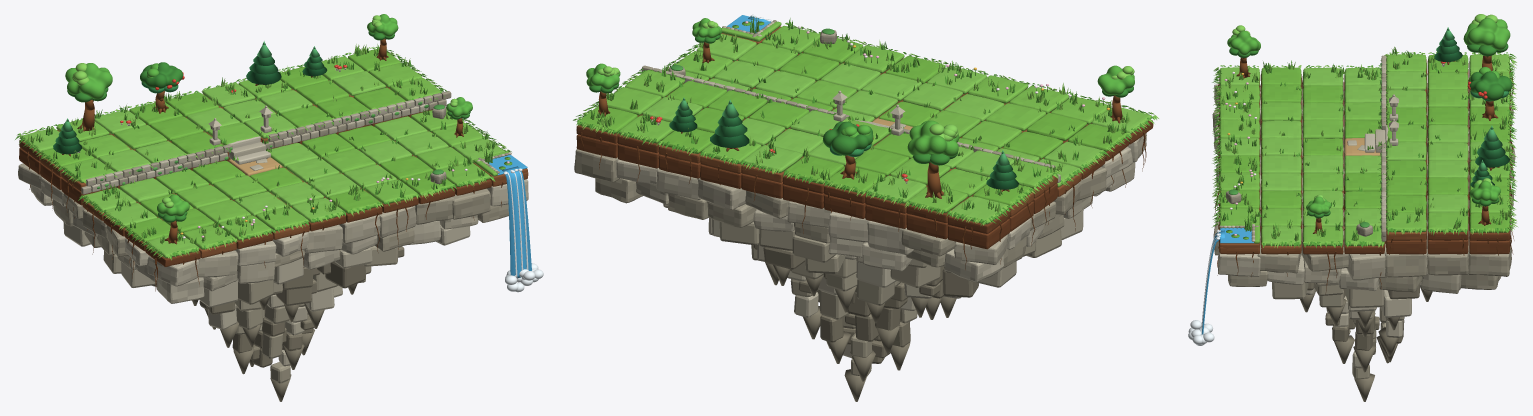
File: ile-jeu.glb
The picture shows the model from 3 angles, left to right: view 1: azimuth 30°, elevation 25°; view 2: azimuth 150°, elevation 25°; view 3: azimuth 270°, elevation 25°; orthographic projection. The views are drawn at different scales.
Parts seen in each view (by area): view 1: eau.001, feuillage, pierre.323, pierre.347, pierre.325, pierre.324, pierre.334, pierre.342, case_herbe.042, case_herbe.012, case_herbe.018, pierre.336 (+83 smaller); view 2: feuillage, pierre.023, case_herbe.050, case_herbe.053, feuillage.001, pierre.004, pierre.016, case_herbe.051, pierre.001, case_herbe.047, case_herbe.046, pierre.006 (+90 smaller); view 3: feuillage, pierre.136, pierre.208, pierre.023, pierre.351, pierre.066, feuillage.001, case_herbe.042, case_herbe.051, pierre.320, pierre.276, case_herbe.021 (+90 smaller).
Part boxes in pixels (<box>): eau.001: <box>502,166,531,277</box>; feuillage: <box>65,63,112,99</box>; pierre.323: <box>147,256,198,286</box>; pierre.347: <box>452,188,490,219</box>; pierre.325: <box>198,250,238,277</box>; pierre.324: <box>156,277,204,303</box>; pierre.334: <box>303,224,342,253</box>; pierre.342: <box>379,205,416,237</box>; case_herbe.042: <box>213,175,266,200</box>; case_herbe.012: <box>114,125,167,149</box>; case_herbe.018: <box>332,71,385,95</box>; pierre.336: <box>339,215,380,243</box>; feuillage: <box>907,120,959,156</box>; pierre.023: <box>574,149,619,182</box>; case_herbe.050: <box>1027,112,1086,140</box>; case_herbe.053: <box>903,83,962,111</box>; feuillage.001: <box>823,121,873,155</box>; pierre.004: <box>867,220,913,254</box>; pierre.016: <box>697,178,745,209</box>; case_herbe.051: <box>985,103,1045,131</box>; pierre.001: <box>944,249,1003,282</box>; case_herbe.047: <box>714,60,774,88</box>; case_herbe.046: <box>755,70,815,98</box>; pierre.006: <box>828,211,868,242</box>; feuillage: <box>1463,18,1510,50</box>; pierre.136: <box>1385,248,1426,277</box>; pierre.208: <box>1346,244,1386,280</box>; pierre.023: <box>1468,241,1511,276</box>; pierre.351: <box>1218,249,1260,276</box>; pierre.066: <box>1427,239,1469,275</box>; feuillage.001: <box>1469,71,1512,100</box>; case_herbe.042: <box>1303,119,1343,138</box>; case_herbe.051: <box>1261,102,1301,121</box>; pierre.320: <box>1257,239,1300,273</box>; pierre.276: <box>1301,240,1348,271</box>; case_herbe.021: <box>1386,71,1426,90</box>.
Size of the model in its own units: 20.77 by 16.99 by 15.87.
